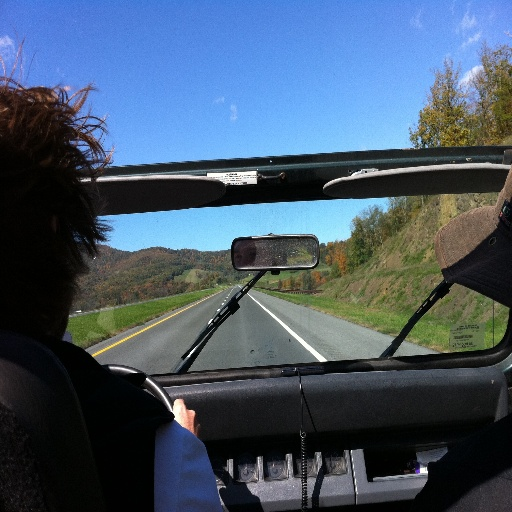hand: (170, 394, 204, 432)
